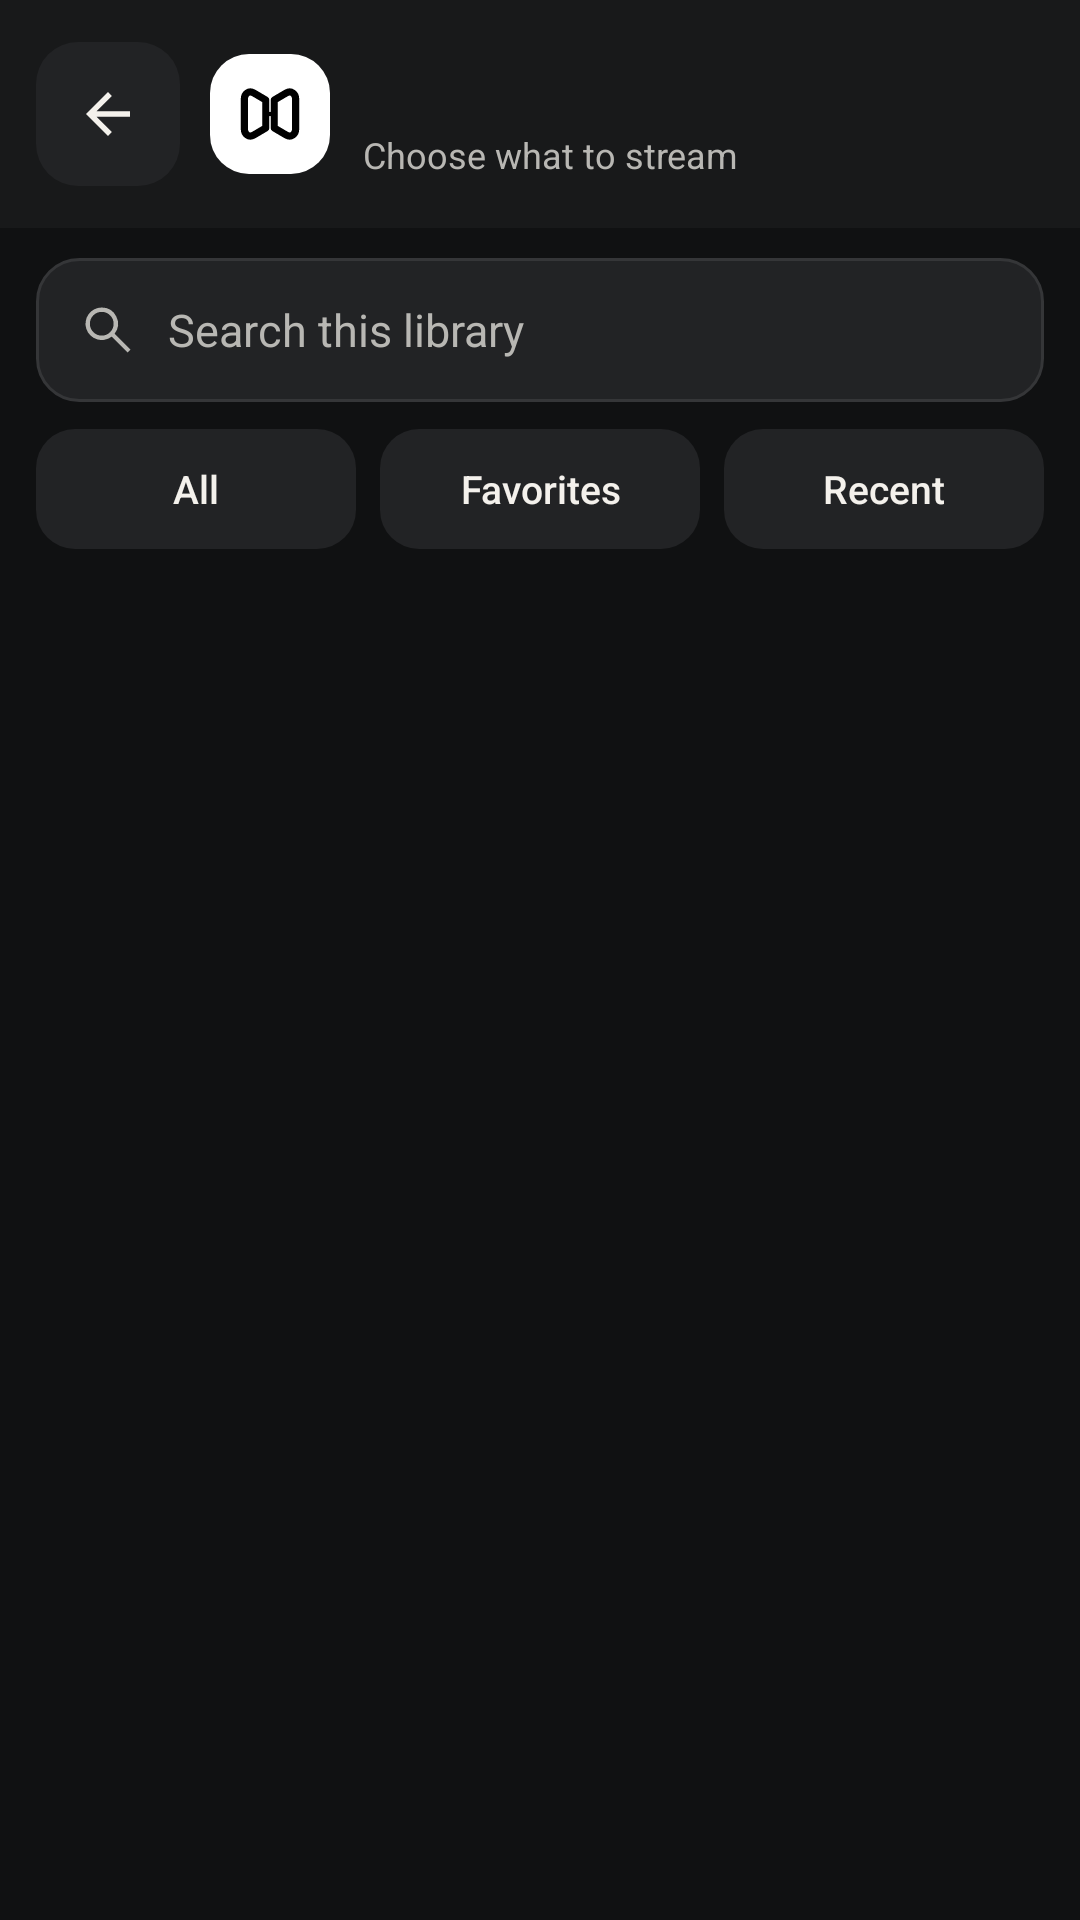

Screen size 1080 x 1920. Icon name, then its box in pixels as (x1, y1, x2, y2):
Back: (36, 42, 180, 186)
